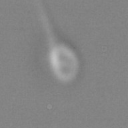normal: (32, 1, 59, 46)
